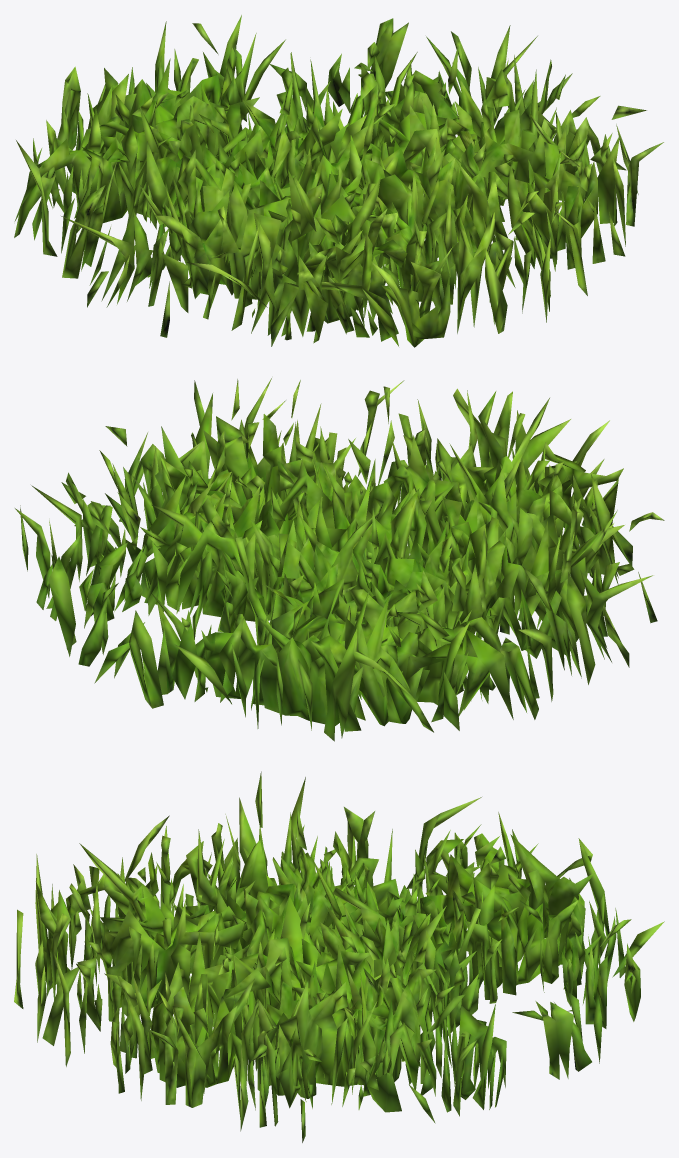
The model's file is GRASS3D.glb.
3 views of the same model, one above another, from view 1: azimuth 30°, elevation 25°; view 2: azimuth 150°, elevation 25°; view 3: azimuth 270°, elevation 25° (orthographic). The views are drawn at different scales.
Size of the model in its own units: 1.97 by 0.4578 by 1.97.
1 material, 1 textured.
